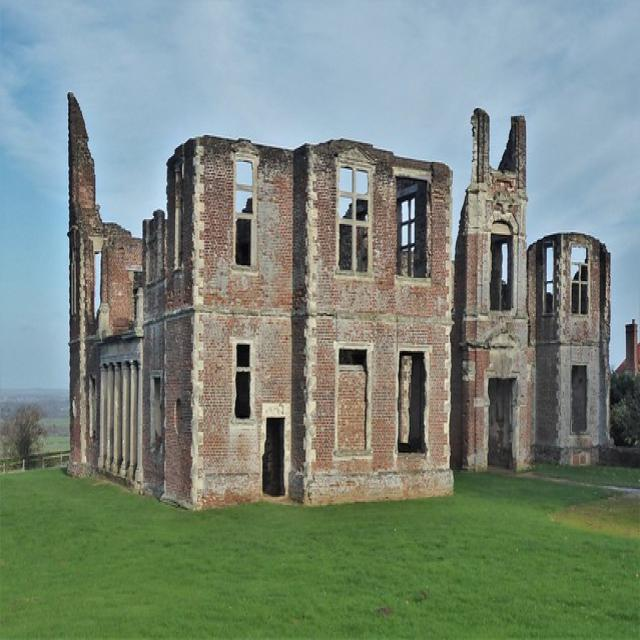building: (70, 80, 614, 517)
